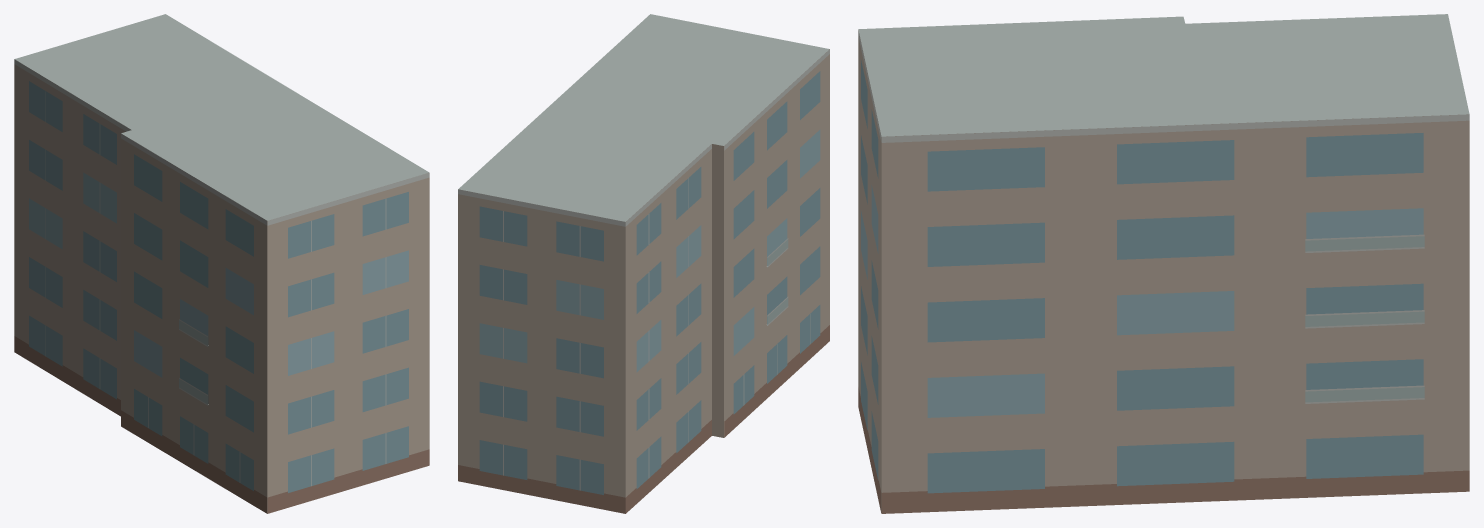
Rendered from survey-upis-32916650.glb.
The picture shows the model from 3 angles, left to right: view 1: azimuth 30°, elevation 25°; view 2: azimuth 150°, elevation 25°; view 3: azimuth 270°, elevation 25°; orthographic projection. The views are drawn at different scales.
Visible parts, largest first — view 1: survey-upis-32916650.tmp; view 2: survey-upis-32916650.tmp; view 3: survey-upis-32916650.tmp.
Part boxes in pixels (x1=…): survey-upis-32916650.tmp: x1=14, y1=14, x2=429, y2=513; survey-upis-32916650.tmp: x1=458, y1=14, x2=829, y2=513; survey-upis-32916650.tmp: x1=858, y1=14, x2=1469, y2=513.
Bounding box in the file's own units: 10.12 × 14.5 × 21.3.
